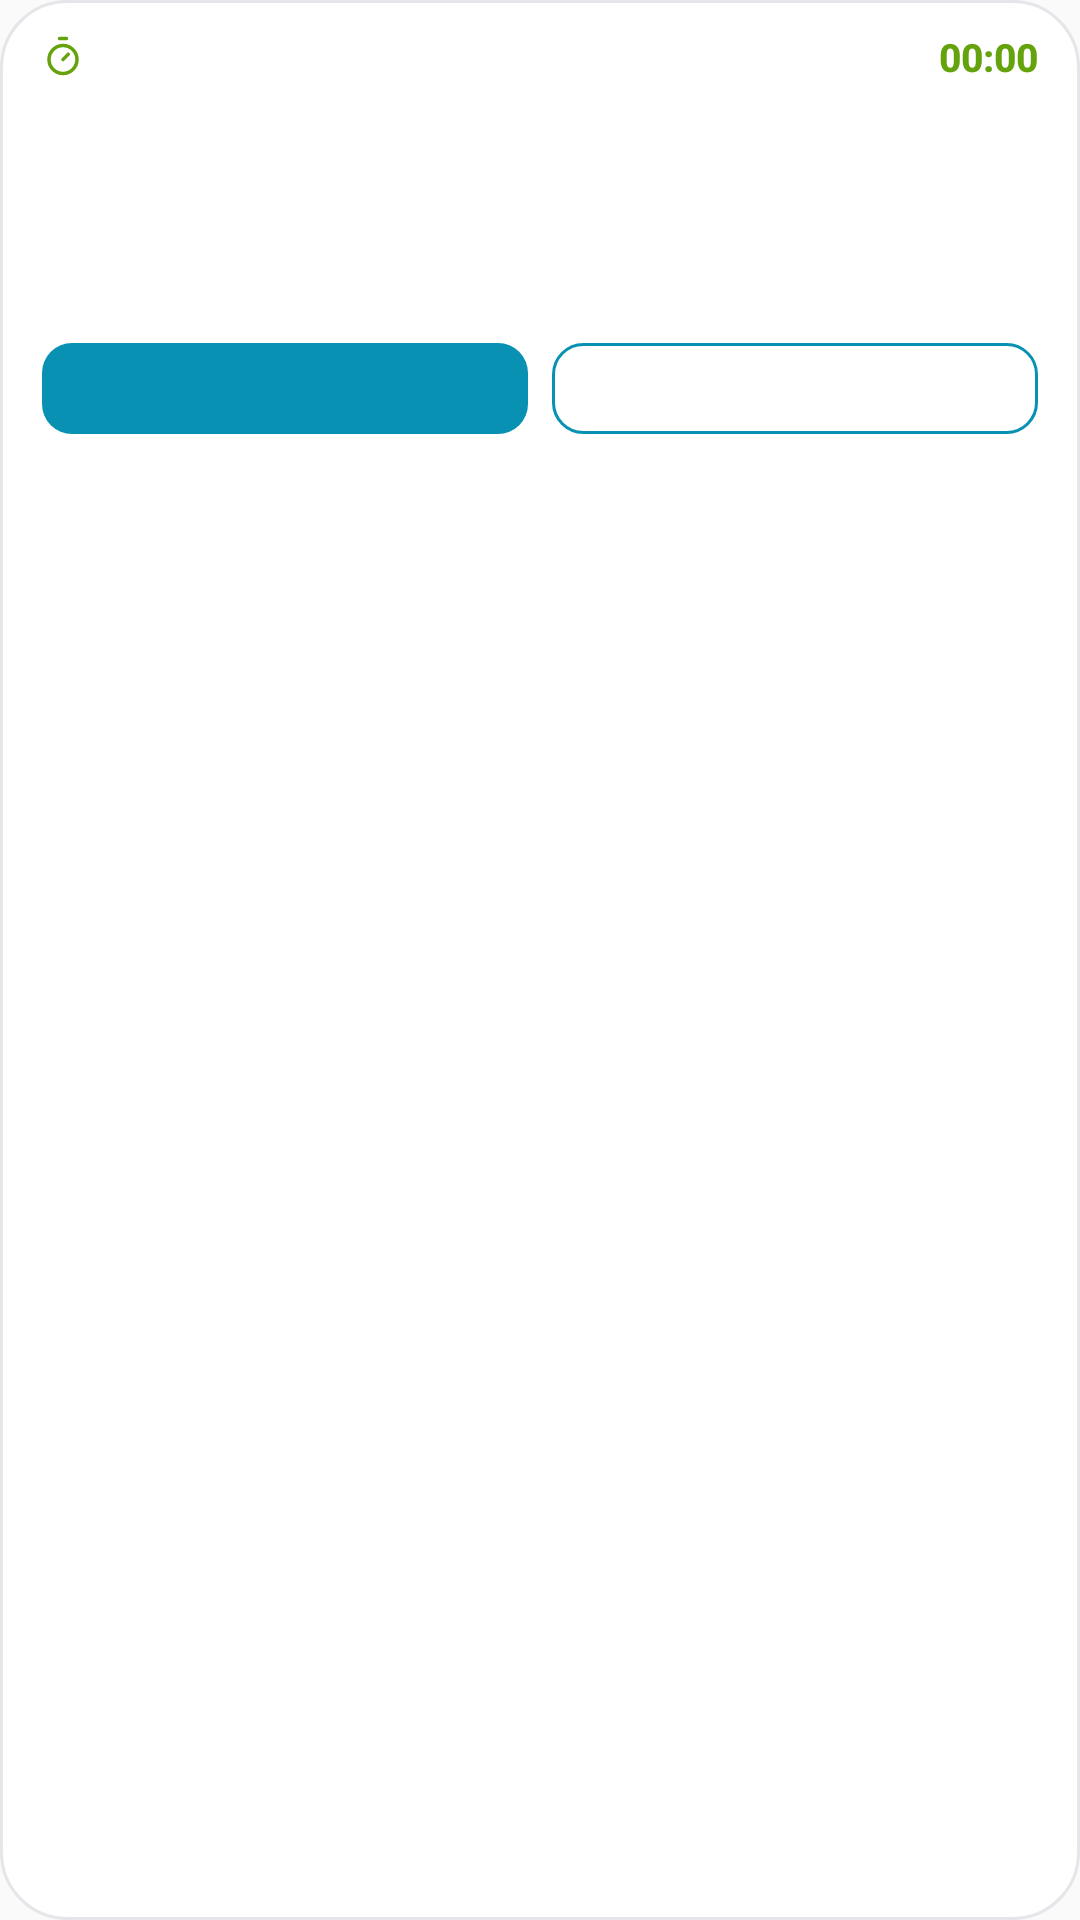

Point at icon controls on the screen. Image size 1080px x 1920px, points as [x,y].
widget timer: [63,56]
